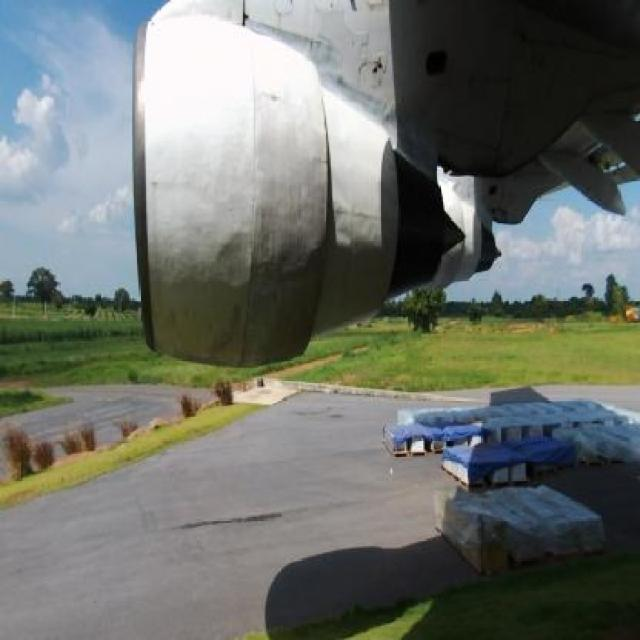Scartch: (248, 109, 327, 300), (160, 301, 314, 368)
